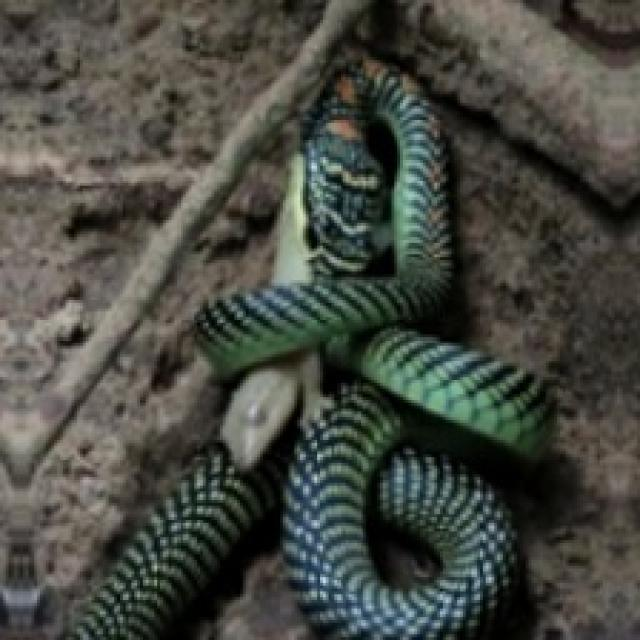paradise tree snake: (66, 57, 549, 637)
